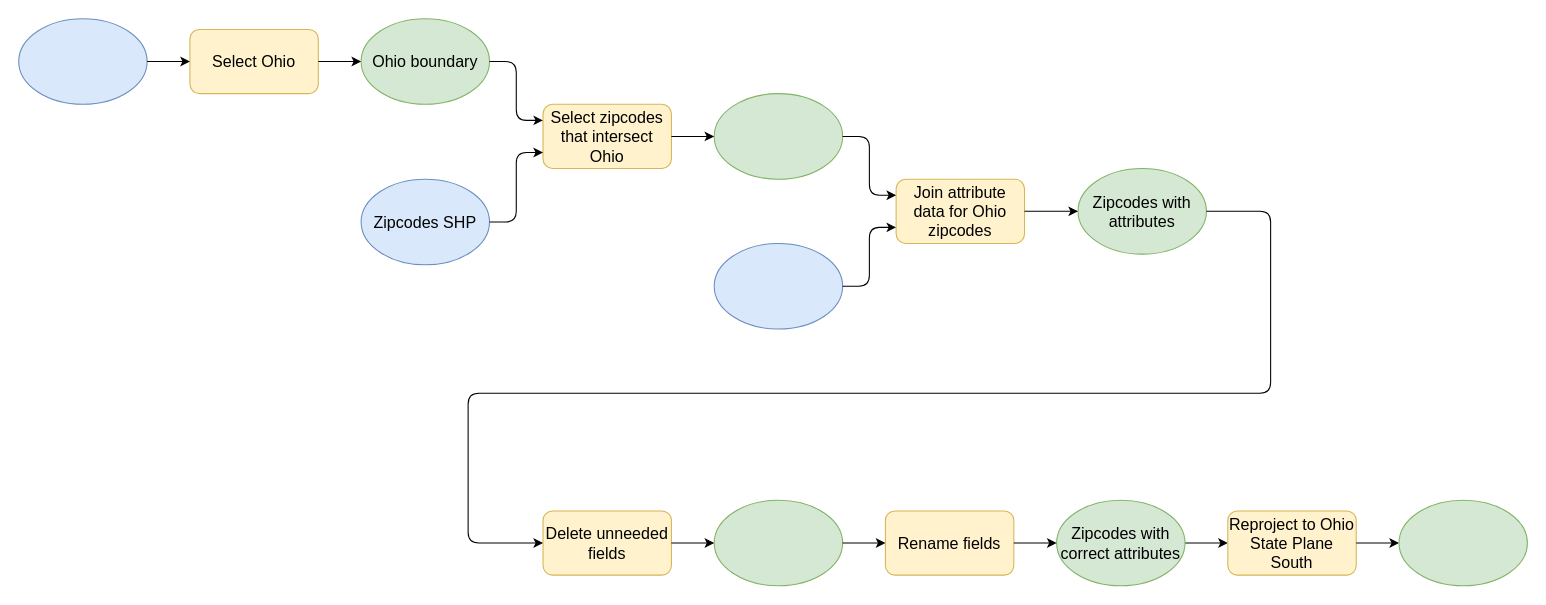
This 1546x605 diagram has some shape labels left out. Here are the shapes that lost their labels. From the top down, the centre of each, then its label:
the point at 82,61: State SHP
the point at 778,136: Ohio zipcode boundaries
the point at 778,285: Zipcodes CSV
the point at 778,542: Zipcodes with fewer attributes
the point at 1462,542: Final zipcodes
